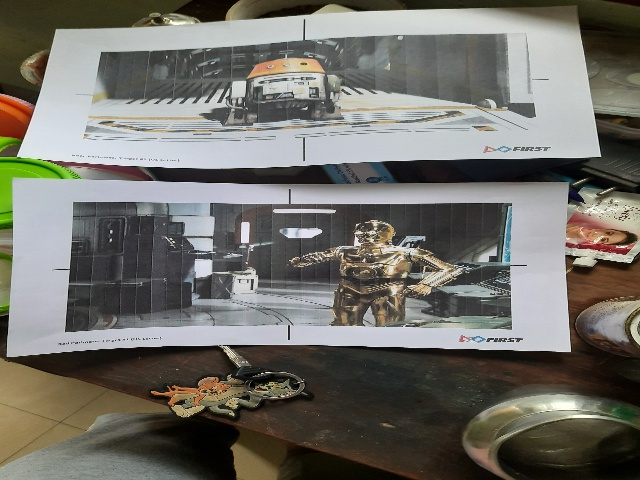rept2: (77, 35, 562, 141)
rpt1: (27, 181, 556, 349)
